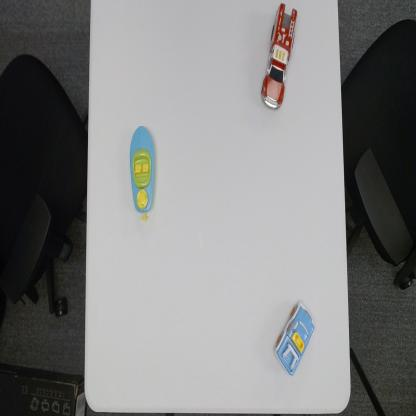Boat: (128, 123, 157, 222)
Car: (273, 298, 316, 377)
Firetruck: (260, 1, 298, 112)
